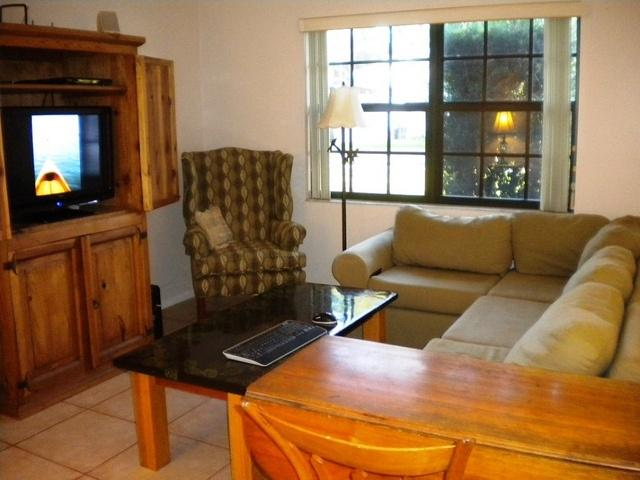AIO PC-Monitor-TV: (0, 104, 115, 223)
Meja: (111, 281, 397, 394)
